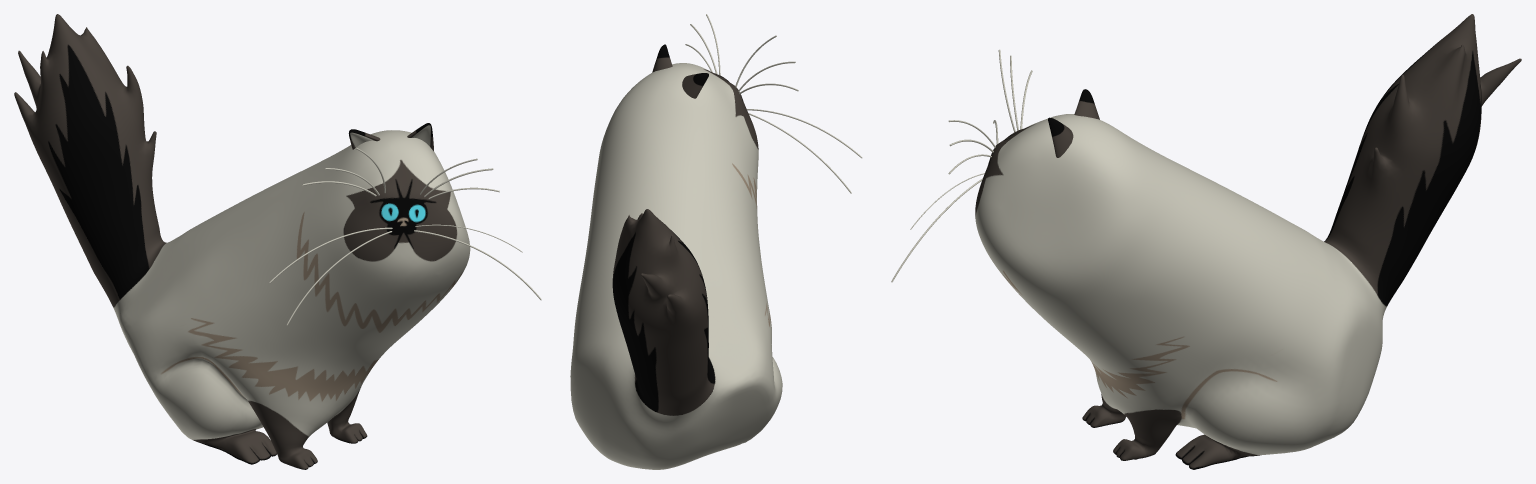
The model's file is cat.glb.
3 views of the same model, side by side, from view 1: azimuth 30°, elevation 25°; view 2: azimuth 150°, elevation 25°; view 3: azimuth 270°, elevation 25° (orthographic). The views are drawn at different scales.
Visible parts, largest first — view 1: node_id34; view 2: node_id34; view 3: node_id34.
Boxes of the visible parts, left/top/right/bottom form: node_id34: left=14, top=14, right=541, bottom=469; node_id34: left=570, top=14, right=862, bottom=469; node_id34: left=891, top=14, right=1521, bottom=469.
Size of the model in its own units: 0.3252 by 0.4296 by 0.6513.
Materials: 1 (1 with a texture image).
